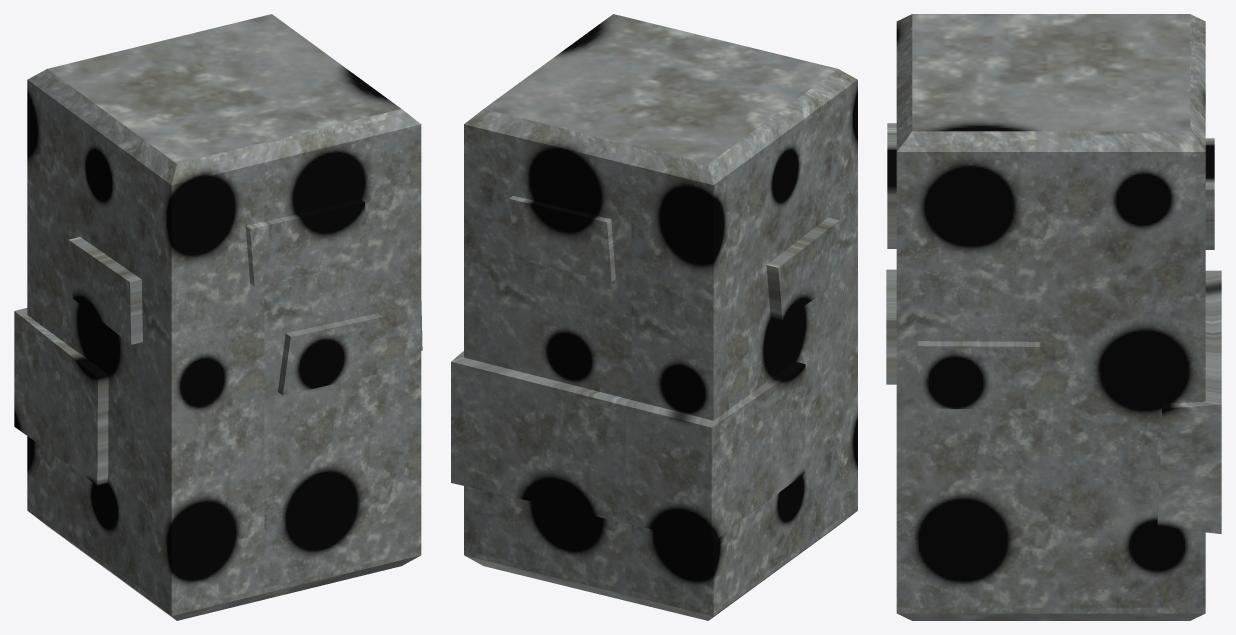
File: Wall End Block.fbx
3 renders of one model, left to right at view 1: azimuth 30°, elevation 25°; view 2: azimuth 150°, elevation 25°; view 3: azimuth 270°, elevation 25°, orthographic. The views are drawn at different scales.
Parts seen in each view (by area): view 1: pCube1; view 2: pCube1; view 3: pCube1.
Part boxes in pixels (box(x1,y1,x2,y2)): pCube1: box(14, 14, 422, 620); pCube1: box(451, 14, 857, 620); pCube1: box(886, 14, 1221, 620).
Size of the model in its own units: 152 by 244 by 152.
